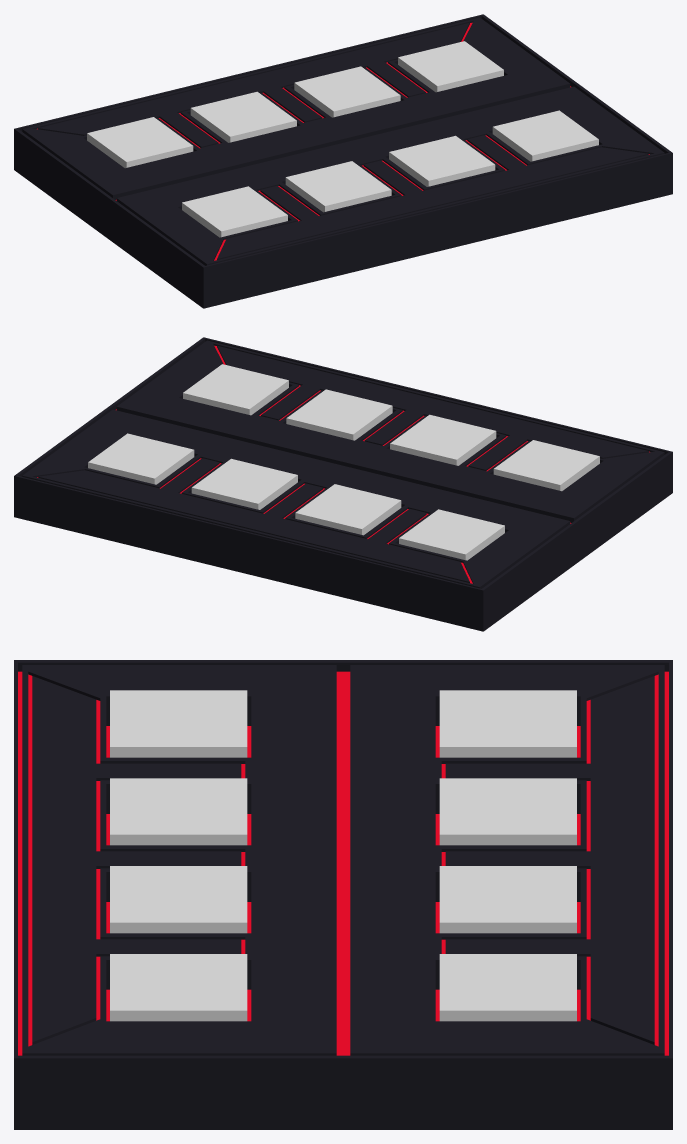
The model's file is SoundBoard 1.fbx.
The picture shows the model from 3 angles, top to bottom: view 1: azimuth 30°, elevation 25°; view 2: azimuth 150°, elevation 25°; view 3: azimuth 270°, elevation 25°; orthographic projection. The views are drawn at different scales.
Parts seen in each view (by area): view 1: SoundBoard; view 2: SoundBoard; view 3: SoundBoard.
Boxes of the visible parts, x1=… form: SoundBoard: x1=14, y1=14, x2=672, y2=308; SoundBoard: x1=14, y1=337, x2=672, y2=631; SoundBoard: x1=14, y1=660, x2=672, y2=1129.
Bounding box in the file's own units: 286 × 26.77 × 200.
